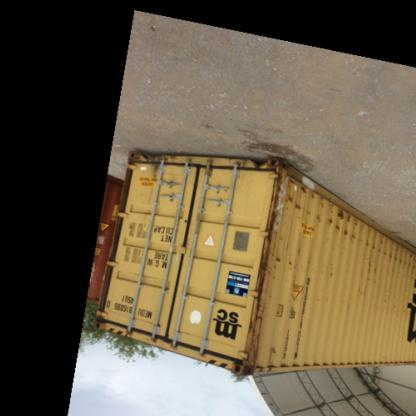Damage: (256, 164, 284, 268), (119, 154, 148, 168)
